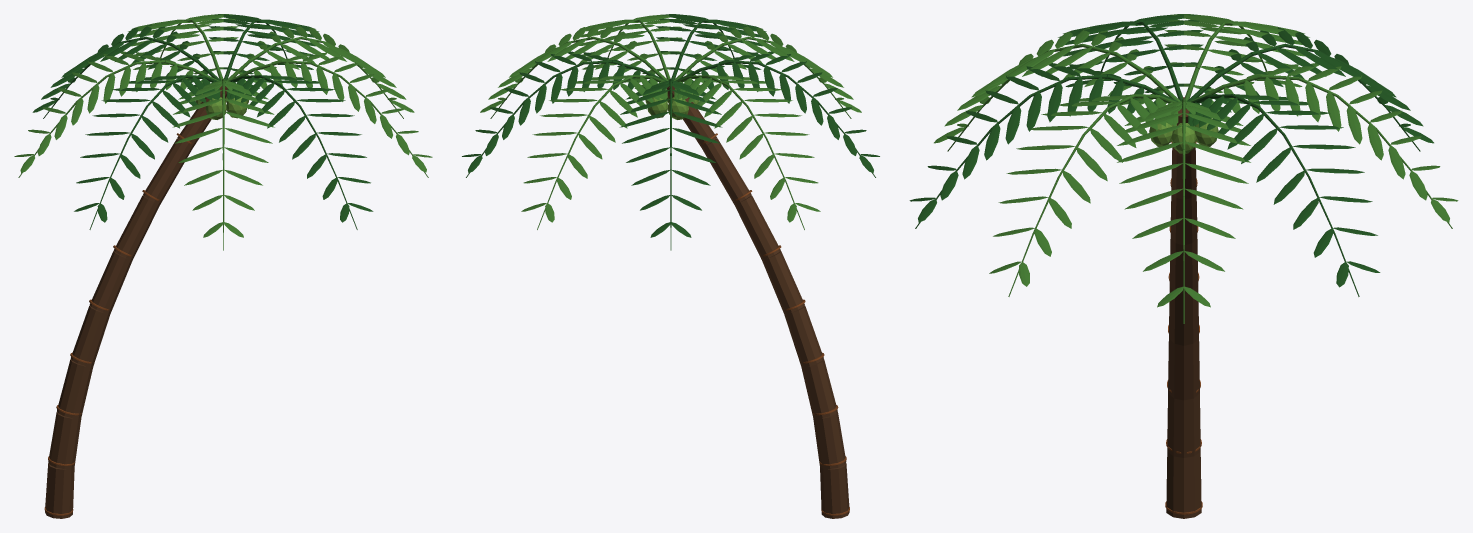
The model's file is edited.glb.
The picture shows the model from 3 angles, left to right: view 1: azimuth 30°, elevation 25°; view 2: azimuth 150°, elevation 25°; view 3: azimuth 270°, elevation 25°; orthographic projection. The views are drawn at different scales.
Visible parts, largest first — view 1: FROND_Arching.008, FROND_Arching.006, FROND_Arching.007, FROND_Arching.005, FROND_Arching, FROND_Arching.001, FROND_Arching.004, FROND_Arching.002, FROND_Arching.003, TRUNK_CurvedSegment, TRUNK_CurvedSegment.001, TRUNK_CurvedSegment.002 (+5 smaller); view 2: FROND_Arching.003, FROND_Arching.005, FROND_Arching.004, FROND_Arching.002, FROND_Arching.006, FROND_Arching.001, FROND_Arching.007, FROND_Arching.008, FROND_Arching, TRUNK_CurvedSegment, TRUNK_CurvedSegment.001, TRUNK_CurvedSegment.002 (+5 smaller); view 3: FROND_Arching.002, FROND_Arching.001, FROND_Arching, FROND_Arching.008, FROND_Arching.003, FROND_Arching.004, FROND_Arching.007, FROND_Arching.005, FROND_Arching.006, TRUNK_CurvedSegment, TRUNK_CurvedSegment.001, TRUNK_CurvedSegment.002 (+4 smaller).
Boxes of the visible parts, x1,y1,x2,y2 form: FROND_Arching.008: (225, 75, 373, 229); FROND_Arching.006: (74, 75, 220, 229); FROND_Arching.007: (172, 78, 274, 250); FROND_Arching.005: (14, 51, 218, 177); FROND_Arching: (228, 52, 432, 177); FROND_Arching.001: (226, 24, 414, 118); FROND_Arching.004: (32, 24, 220, 118); FROND_Arching.002: (208, 14, 319, 80); FROND_Arching.003: (128, 14, 238, 80); TRUNK_CurvedSegment: (45, 463, 74, 518); TRUNK_CurvedSegment.001: (48, 411, 81, 469); TRUNK_CurvedSegment.002: (57, 359, 93, 418); FROND_Arching.003: (521, 75, 669, 229); FROND_Arching.005: (674, 75, 820, 229); FROND_Arching.004: (619, 78, 722, 250); FROND_Arching.002: (462, 51, 666, 177); FROND_Arching.006: (675, 51, 879, 177); FROND_Arching.001: (480, 24, 668, 118); FROND_Arching.007: (673, 24, 861, 118); FROND_Arching.008: (656, 14, 766, 80); FROND_Arching: (579, 14, 682, 80); TRUNK_CurvedSegment: (820, 463, 849, 518); TRUNK_CurvedSegment.001: (813, 411, 846, 468); TRUNK_CurvedSegment.002: (801, 359, 837, 418); FROND_Arching.002: (1186, 94, 1380, 296); FROND_Arching.001: (1117, 98, 1250, 323); FROND_Arching: (989, 94, 1181, 296); FROND_Arching.008: (909, 63, 1178, 228); FROND_Arching.003: (1189, 63, 1458, 228); FROND_Arching.004: (1187, 27, 1433, 151); FROND_Arching.007: (934, 27, 1180, 151); FROND_Arching.005: (1164, 14, 1309, 101); FROND_Arching.006: (1058, 14, 1203, 101); TRUNK_CurvedSegment: (1166, 452, 1201, 518); TRUNK_CurvedSegment.001: (1167, 393, 1200, 457); TRUNK_CurvedSegment.002: (1168, 338, 1199, 400).
Size of the model in its own units: 5.57 by 6.21 by 5.64.
